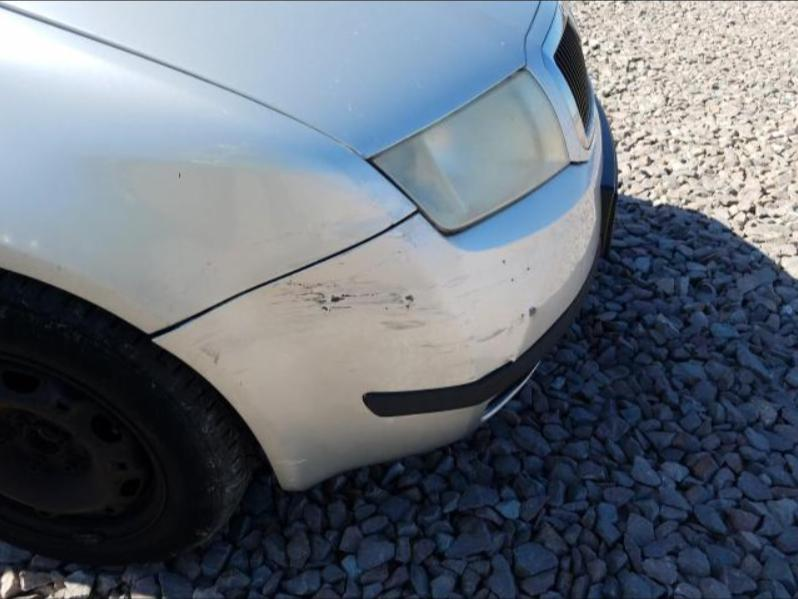Broken part: (146, 205, 423, 341)
Dent: (454, 315, 531, 382)
Paint chip: (271, 271, 434, 319), (528, 306, 539, 316), (530, 307, 542, 316), (501, 258, 507, 265), (396, 250, 402, 254), (521, 313, 525, 318), (511, 278, 515, 283), (526, 267, 530, 271)
Scratch: (416, 328, 506, 349), (255, 227, 313, 246), (433, 307, 471, 331), (373, 318, 426, 332), (455, 282, 494, 300), (200, 340, 222, 364), (390, 232, 418, 250), (427, 275, 463, 288), (272, 458, 305, 464), (199, 261, 213, 270), (447, 282, 463, 289), (238, 369, 243, 387), (348, 367, 359, 372)
